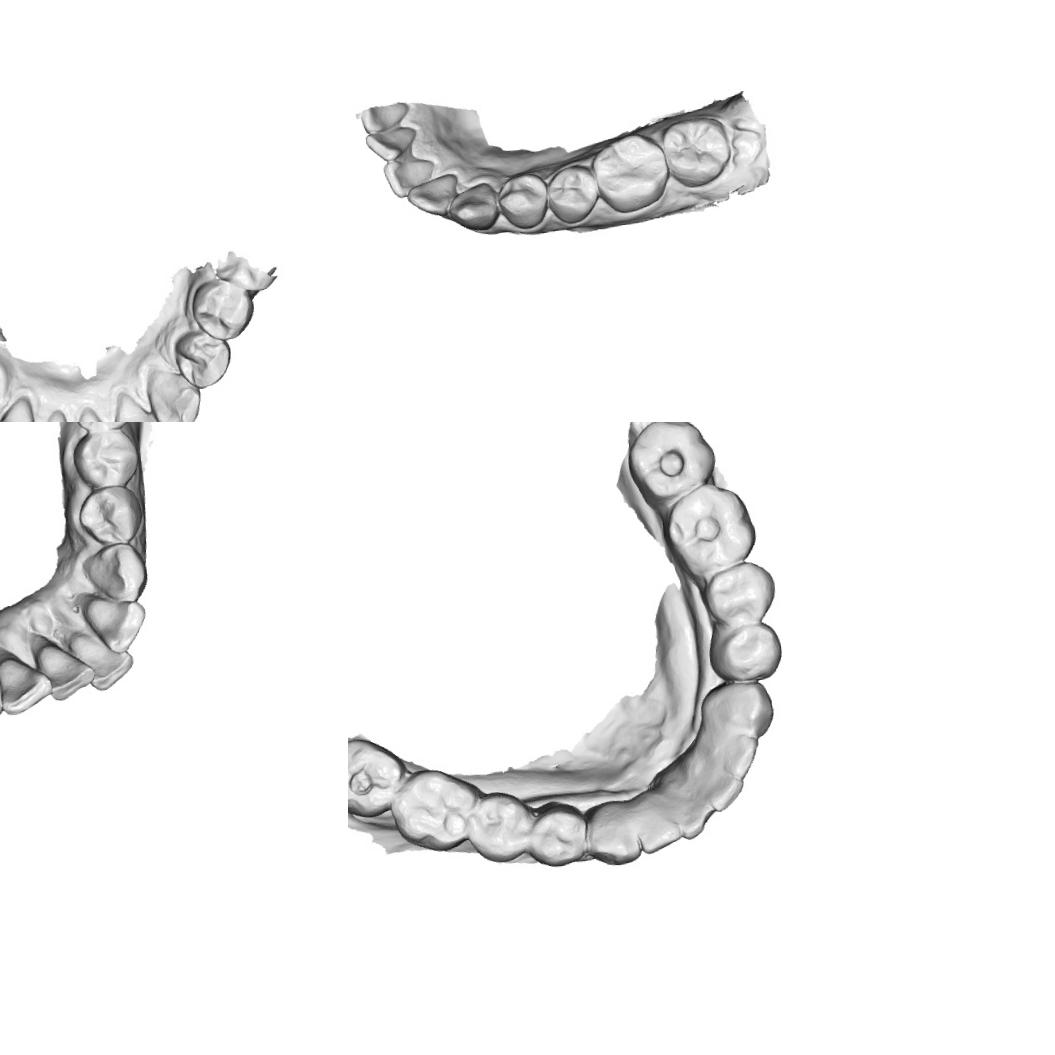canine: (697, 674, 776, 742), (76, 540, 150, 608), (585, 798, 646, 872), (141, 362, 204, 422), (446, 180, 500, 232)
incisor: (67, 626, 135, 694), (81, 594, 149, 656), (36, 638, 94, 704), (0, 650, 53, 718), (710, 727, 763, 783), (404, 172, 460, 220), (637, 806, 687, 859), (698, 766, 748, 816), (381, 156, 437, 199), (674, 792, 720, 842), (362, 124, 418, 162), (358, 99, 410, 135), (110, 391, 165, 422), (69, 406, 121, 422), (0, 402, 41, 422)
molar: (659, 480, 757, 582), (388, 764, 480, 856), (622, 422, 721, 505), (588, 128, 672, 216), (659, 112, 734, 191), (348, 732, 408, 821)
premolar: (703, 618, 786, 686), (699, 560, 778, 628), (186, 271, 256, 345), (467, 790, 533, 864), (168, 325, 238, 394), (70, 424, 141, 490), (76, 484, 144, 548), (530, 802, 588, 871), (545, 162, 600, 226), (494, 170, 550, 231)
